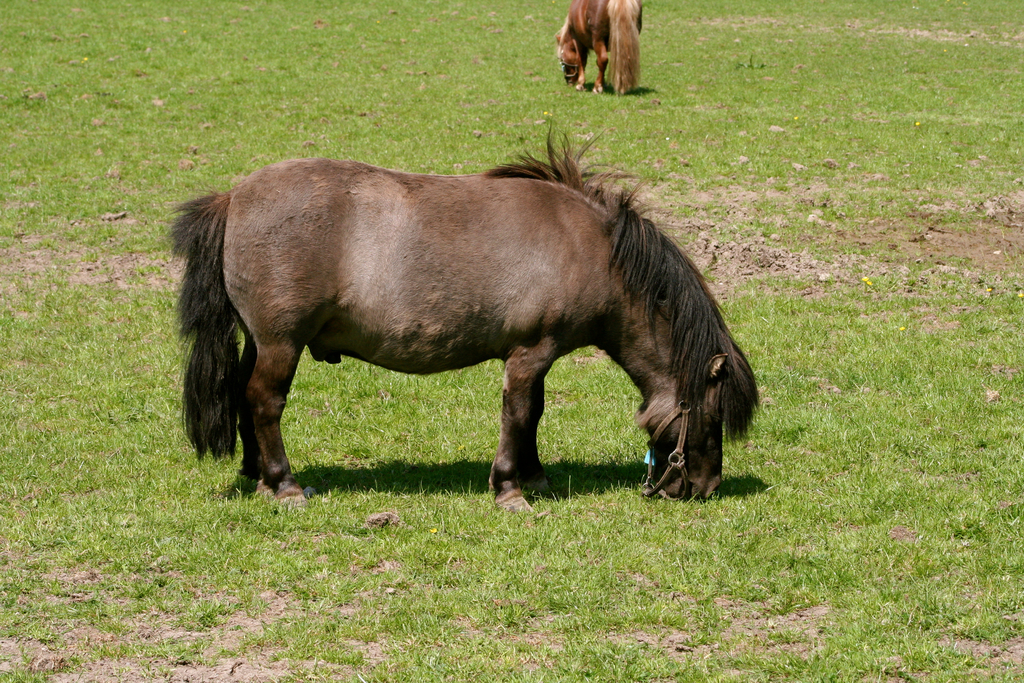horse: (166, 119, 758, 516)
